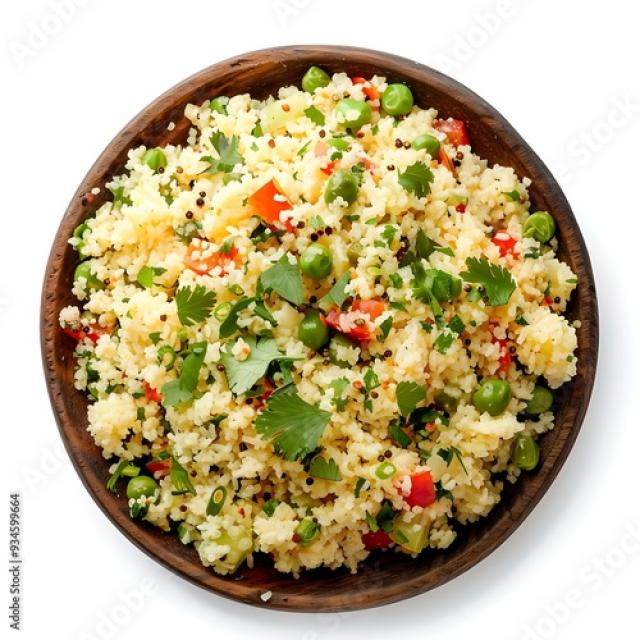UPMA: (46, 64, 585, 579)
